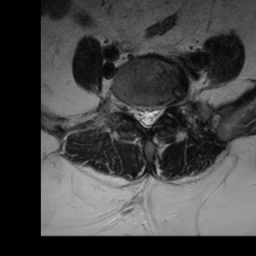CCS_normal: (143, 99, 151, 132)
LFS_normal: (162, 93, 170, 118)
LLS_normal: (151, 99, 161, 125)
RFS_normal: (123, 98, 134, 119)
RLS_normal: (134, 99, 143, 131)
